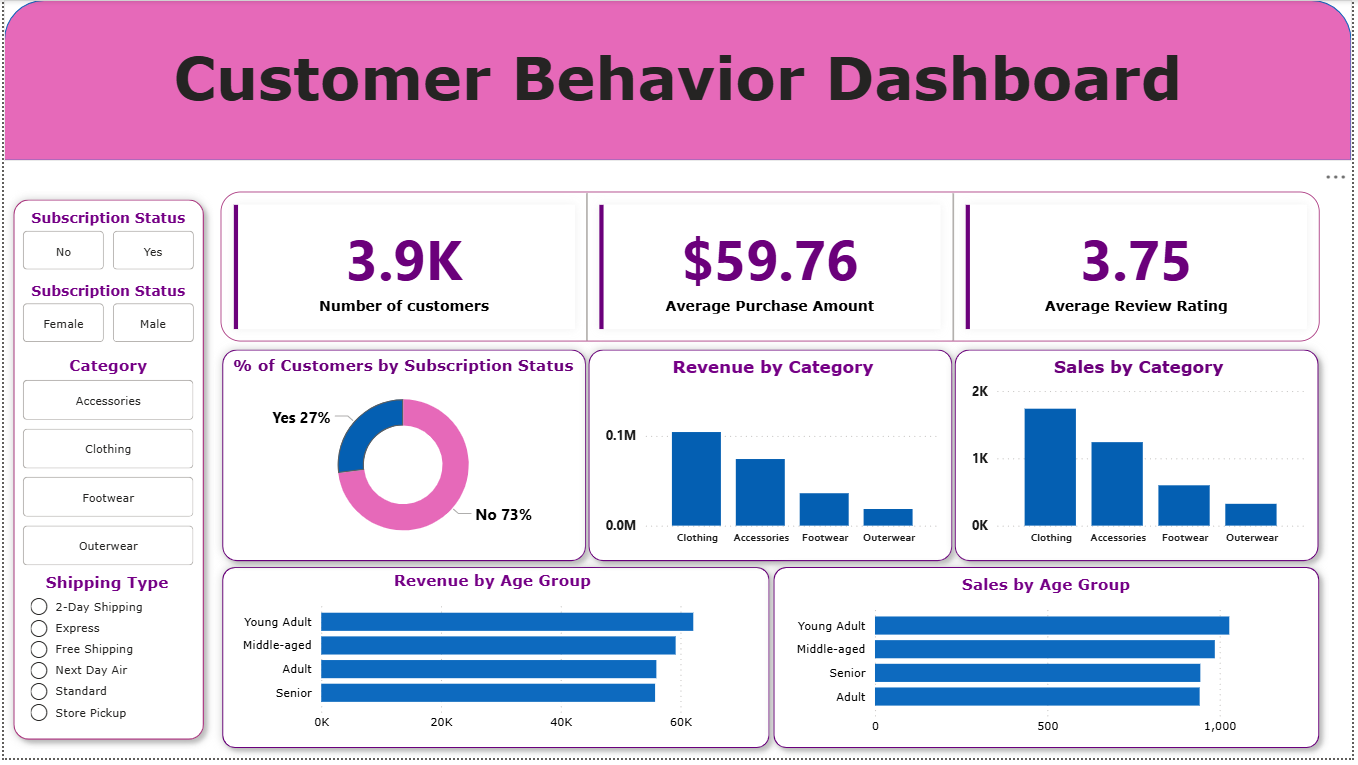

What the dashboard file says about the page in this screenshot:
{"tool":"powerbi","page":{"name":"Page 1","canvas":[1280,720],"ordinal":0},"visuals":[{"type":"cardVisual","fields":{"Data":["customer_behavior customer.Number of customers","customer_behavior customer.Average Purchase Amount","customer_behavior customer.Average Review Rating"]},"box":[177.5,153.8,1102,200],"z":0},{"type":"shape","box":[198.5,323.1,363.6,219.1],"z":0,"group":"g1"},{"type":"shape","box":[0,0,1280,152.9],"z":1000},{"type":"donutChart","title":"% of Customers by Subscription Status","fields":{"Category":["customer_behavior customer.subscription_status"],"Y":["CountNonNull(customer_behavior customer.customer_id)"]},"box":[213,338.6,333.6,189.1],"z":1000,"group":"g1"},{"type":"textbox","box":[0,34.3,1280,84.3],"z":2000},{"type":"shape","box":[546.7,323.1,363.6,219.1],"z":2000,"group":"g1"},{"type":"shape","box":[0,180,198.9,531.1],"z":3000},{"type":"clusteredColumnChart","title":"Revenue by Category","fields":{"Category":["customer_behavior customer.category"],"Y":["Sum(customer_behavior customer.purchase_amount)"]},"box":[566.7,338.6,328.2,189.1],"z":3000,"group":"g1"},{"type":"advancedSlicerVisual","title":"Subscription Status","fields":{"Values":["customer_behavior customer.subscription_status"]},"box":[13,198,172,63],"z":4000},{"type":"shape","box":[894.9,323.1,363.6,219.1],"z":4000,"group":"g1"},{"type":"advancedSlicerVisual","title":"Category","fields":{"Values":["customer_behavior customer.category"]},"box":[12.7,338,172,205.3],"z":5000},{"type":"clusteredColumnChart","title":"Sales by Category","fields":{"Category":["customer_behavior customer.category"],"Y":["CountNonNull(customer_behavior customer.customer_id)"]},"box":[914,338.6,327.3,189.1],"z":5000,"group":"g1"},{"type":"listSlicer","title":"Shipping Type","fields":{"Values":["customer_behavior customer.shipping_type"]},"box":[19.3,543.3,158,152],"z":6000},{"type":"advancedSlicerVisual","title":"Subscription Status","fields":{"Values":["customer_behavior customer.gender"]},"box":[13.3,266.7,172,63.3],"z":7000},{"type":"shape","box":[197.9,530,537.9,190],"z":8000},{"type":"clusteredBarChart","title":"Revenue by Age Group","fields":{"Category":["customer_behavior customer.age_group"],"Y":["Sum(customer_behavior customer.purchase_amount)"]},"box":[213.1,543.1,503.1,160],"z":9000},{"type":"group","id":"g1","title":"Group 1","box":[198.5,323.1,1060,219.2],"z":10000},{"type":"shape","box":[721.4,530,536.4,190],"z":11000},{"type":"clusteredBarChart","title":"Sales by Age Group","fields":{"Category":["customer_behavior customer.age_group"],"Y":["CountNonNull(customer_behavior customer.customer_id)"]},"box":[738.6,545.7,502.9,160],"z":12000}]}

Visuals, with their boxes in screenshot pixels (x1, y1, x2, y2), scaled from the page's 1280x720 canvas onto the 1358x765 screenshot:
cardVisual - customer_behavior customer.Number of customers x customer_behavior customer.Average Purchase Amount: bbox=(188, 163, 1357, 376)
shape: bbox=(211, 343, 596, 576)
shape: bbox=(0, 0, 1357, 162)
"% of Customers by Subscription Status" donutChart: bbox=(226, 360, 580, 561)
textbox: bbox=(0, 36, 1357, 126)
shape: bbox=(580, 343, 966, 576)
shape: bbox=(0, 191, 211, 756)
"Revenue by Category" clusteredColumnChart: bbox=(601, 360, 949, 561)
"Subscription Status" advancedSlicerVisual: bbox=(14, 210, 196, 277)
shape: bbox=(949, 343, 1335, 576)
"Category" advancedSlicerVisual: bbox=(13, 359, 196, 577)
"Sales by Category" clusteredColumnChart: bbox=(970, 360, 1317, 561)
"Shipping Type" listSlicer: bbox=(20, 577, 188, 739)
"Subscription Status" advancedSlicerVisual: bbox=(14, 283, 197, 351)
shape: bbox=(210, 563, 781, 764)
"Revenue by Age Group" clusteredBarChart: bbox=(226, 577, 760, 747)
"Group 1" group: bbox=(211, 343, 1335, 576)
shape: bbox=(765, 563, 1334, 764)
"Sales by Age Group" clusteredBarChart: bbox=(784, 580, 1317, 750)
